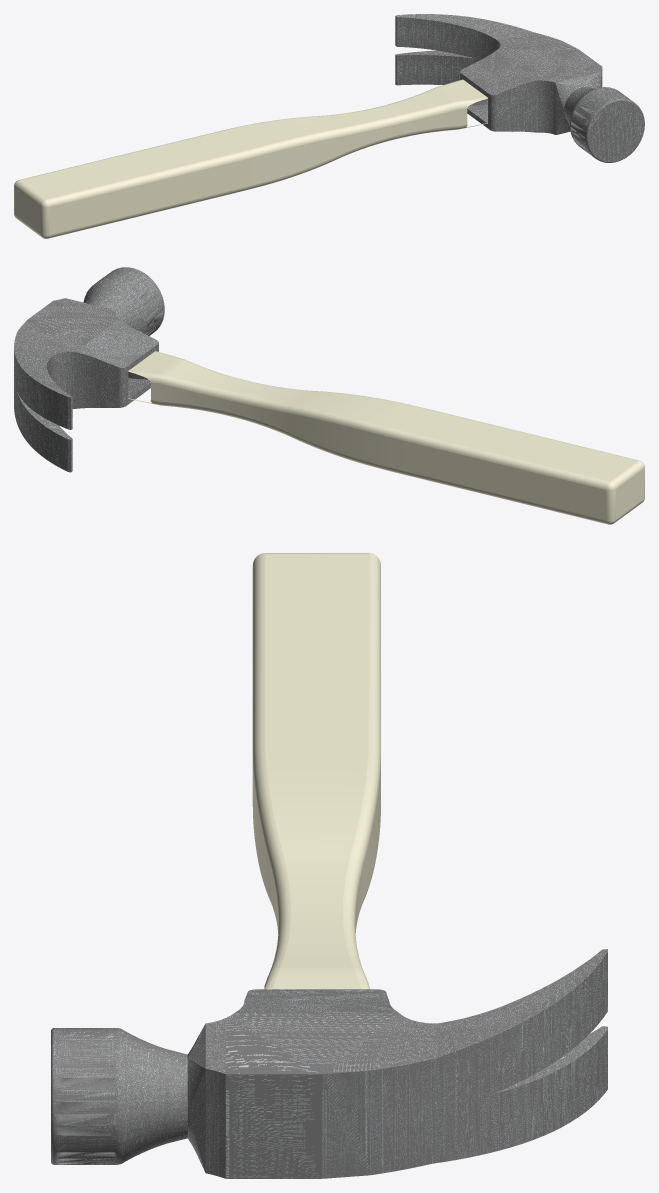
The model's file is Hammer.dae.
3 views of the same model, one above another, from view 1: azimuth 30°, elevation 25°; view 2: azimuth 150°, elevation 25°; view 3: azimuth 270°, elevation 25° (orthographic). The views are drawn at different scales.
Visible parts, largest first — view 1: group_0_020; view 2: group_0_020; view 3: group_0_020.
Boxes of the visible parts, x1,y1,x2,y2 form: group_0_020: (14,14,644,238); group_0_020: (14,267,644,524); group_0_020: (51,553,607,1178).
Bounding box in the file's own units: 0.2945 × 0.1287 × 0.0351.
